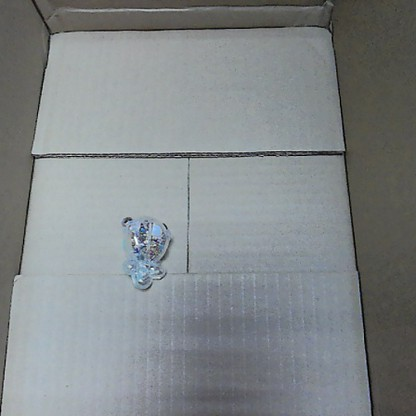whitefish: (115, 211, 174, 292)
